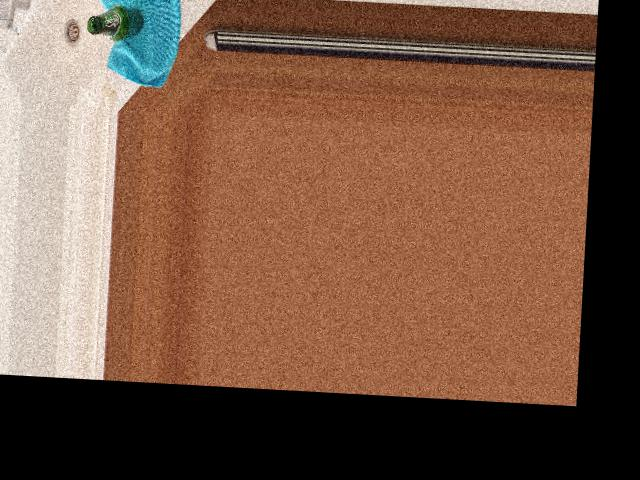beer: (87, 4, 145, 42)
